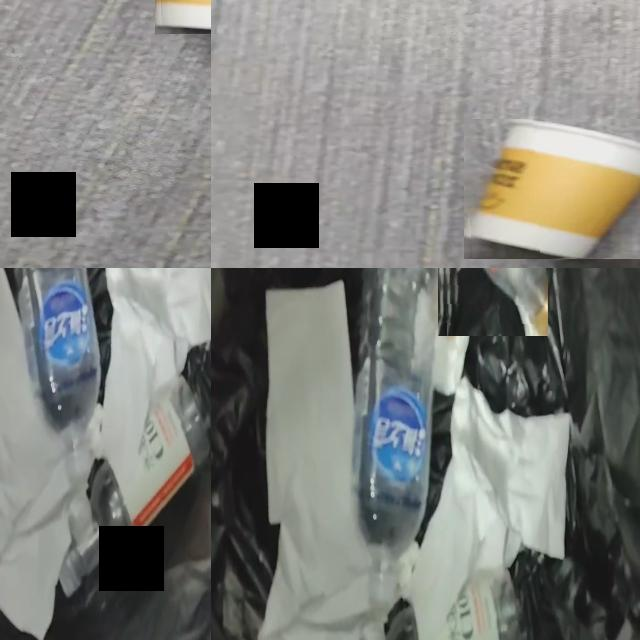bottle: (57, 373, 210, 597), (352, 268, 440, 617), (14, 268, 100, 484), (436, 569, 519, 640), (483, 268, 548, 336)
dixie_cup: (470, 120, 640, 258)
paper: (405, 378, 570, 640), (258, 282, 375, 640), (0, 268, 77, 640), (102, 268, 211, 511), (432, 305, 476, 395), (69, 475, 100, 554), (398, 542, 420, 597), (87, 404, 104, 458), (360, 624, 385, 640)
